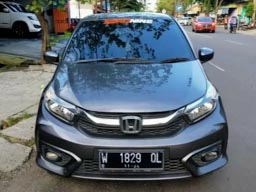plat: (97, 151, 164, 163)
